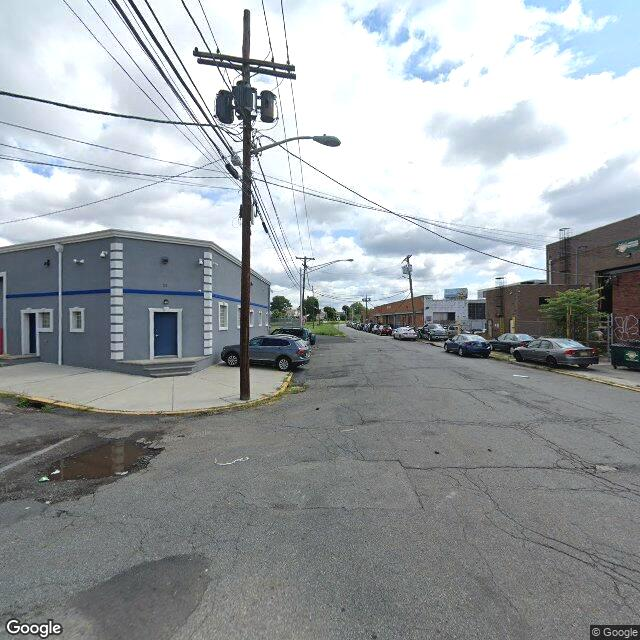pothole: (122, 432, 171, 471)
